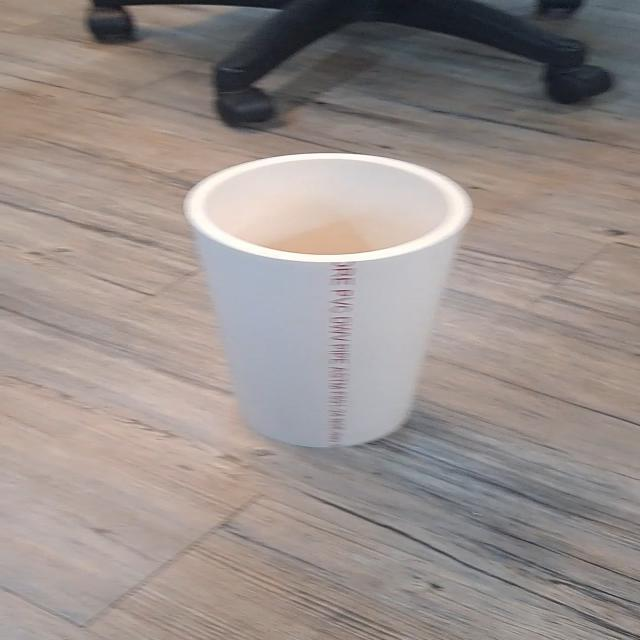CORAL: (161, 147, 492, 458)
